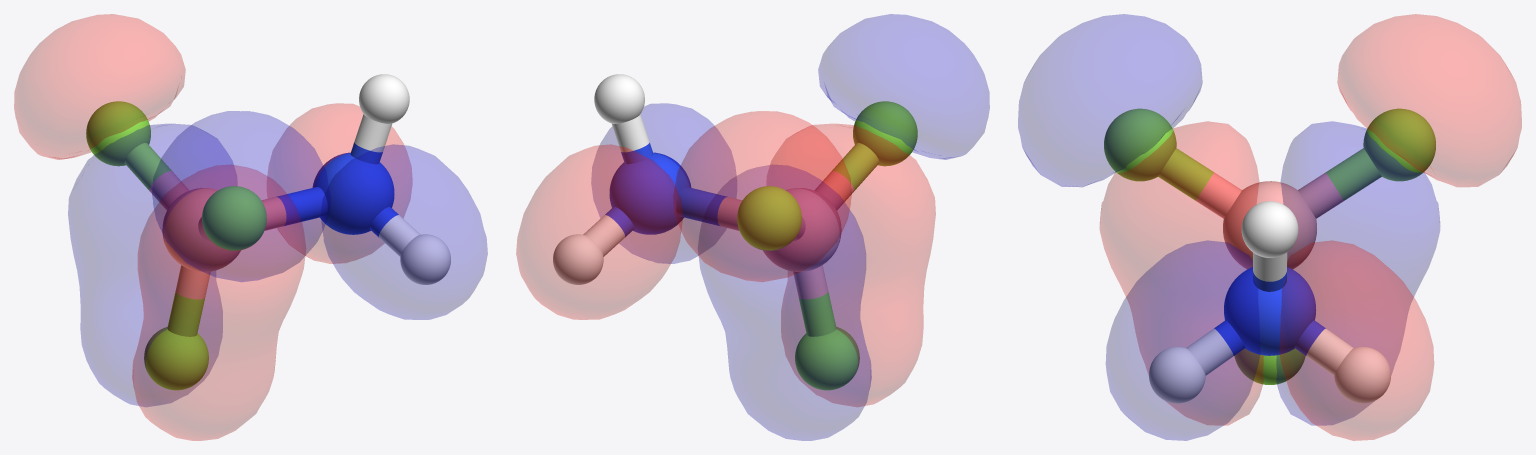
3 views of the same model, side by side, from view 1: azimuth 30°, elevation 25°; view 2: azimuth 150°, elevation 25°; view 3: azimuth 270°, elevation 25° (orthographic). The views are drawn at different scales.
Visible parts, largest first — view 1: surface.001, surface, atoms.001, atoms.003, atoms.002, atoms, bonds, bonds.001, bonds.003, bonds.002; view 2: surface, surface.001, atoms.001, atoms.003, atoms.002, atoms, bonds, bonds.001, bonds.003, bonds.002; view 3: surface.001, surface, atoms.001, atoms.002, atoms.003, atoms, bonds.002, bonds.001, bonds, bonds.003.
Part boxes in pixels (box(x1,y1,x2,y2)): surface.001: box(68, 111, 487, 406); surface: box(14, 14, 411, 440); atoms.001: box(86, 101, 266, 390); atoms.003: box(312, 152, 394, 234); atoms.002: box(359, 74, 450, 284); atoms: box(162, 188, 240, 271); bonds: box(149, 171, 286, 299); bonds.001: box(124, 143, 204, 336); bonds.003: box(276, 142, 398, 237); bonds.002: box(354, 114, 420, 256); surface: box(516, 111, 935, 406); surface.001: box(591, 14, 989, 440); atoms.001: box(737, 101, 917, 390); atoms.003: box(609, 152, 691, 234); atoms.002: box(553, 74, 644, 284); atoms: box(763, 188, 841, 271); bonds: box(717, 171, 854, 299); bonds.001: box(799, 143, 879, 336); bonds.003: box(605, 142, 727, 237); bonds.002: box(583, 114, 649, 256); surface.001: box(1018, 14, 1439, 440); surface: box(1100, 14, 1521, 440); atoms.001: box(1104, 108, 1435, 384); atoms.002: box(1149, 201, 1390, 403); atoms.003: box(1224, 267, 1316, 355); atoms: box(1223, 181, 1316, 269); bonds.002: box(1186, 252, 1353, 375); bonds.001: box(1158, 148, 1381, 200); bonds: box(1196, 172, 1343, 218); bonds.003: box(1214, 271, 1325, 355).
Bounding box in the file's own units: 3.94 × 3.81 × 4.43.
